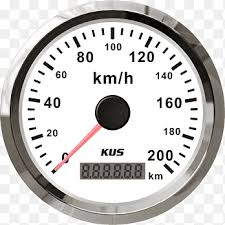Digital_Meter: (77, 162, 151, 180)
